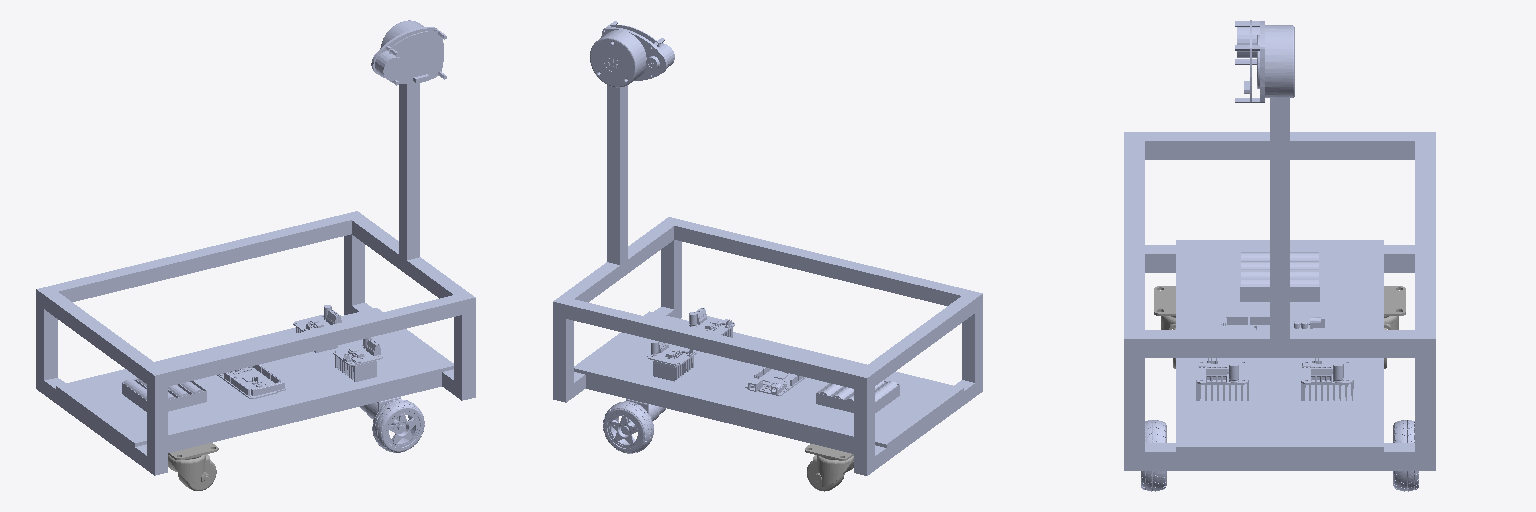
robot.urdf — robot_description:
<?xml version="1.0" encoding="utf-8"?>
<!-- This URDF was automatically created by SolidWorks to URDF Exporter! Originally created by [author] ([email redacted]) 
     Commit Version: 1.6.0-1-g15f4949  Build Version: 1.6.7594.29634
     For more information, please see http://wiki.ros.org/sw_urdf_exporter -->
<robot
  name="robot_description">

<link name="base_footprint"/>
  <joint name="joint_base"
    type="fixed">
    <origin
      xyz="0 0 0.035"
      rpy="0 0 0" />
    <parent
      link="base_footprint" />
    <child
      link="base_link" />
  </joint>

  <link
    name="base_link">
    <inertial>
      <origin
        xyz="0.011251388694839 -0.000218371431547896 0.0399880408960165"
        rpy="0 0 0" />
      <mass
        value="3.10332964553309" />
      <inertia
        ixx="0.0281276630484449"
        ixy="3.5116427776902E-08"
        ixz="-0.00469879010404139"
        iyy="0.0668672613470827"
        iyz="-3.61597758280749E-07"
        izz="0.0746126560387773" />
    </inertial>
    <visual>
      <origin
        xyz="0 0 0"
        rpy="0 0 0" />
      <geometry>
        <mesh
          filename="package://robot_description/meshes/base_link.STL" />
      </geometry>
      <material
        name="">
        <color
          rgba="0.792156862745098 0.819607843137255 0.933333333333333 1" />
      </material>
    </visual>
    <collision>
      <origin
        xyz="0 0 0"
        rpy="0 0 0" />
      <geometry>
        <mesh
          filename="package://robot_description/meshes/base_link.STL" />
      </geometry>
    </collision>
  </link>
  <link
    name="left_wheel_link">
    <inertial>
      <origin
        xyz="-6.43950559542361E-10 0.000697154054652038 -3.84037496248268E-10"
        rpy="0 0 0" />
      <mass
        value="0.0525886389300759" />
      <inertia
        ixx="2.2276561780029E-05"
        ixy="-2.14170927054796E-13"
        ixz="-1.36754384280771E-13"
        iyy="3.95813257450557E-05"
        iyz="-4.75100954008714E-14"
        izz="2.22767408662809E-05" />
    </inertial>
    <visual>
      <origin
        xyz="0 0 0"
        rpy="0 0 0" />
      <geometry>
        <mesh
          filename="package://robot_description/meshes/left_wheel_link.STL" />
      </geometry>
      <material
        name="">
        <color
          rgba="0.792156862745098 0.819607843137255 0.933333333333333 1" />
      </material>
    </visual>
    <collision>
      <origin
        xyz="0 0 0"
        rpy="0 0 0" />
      <geometry>
        <mesh
          filename="package://robot_description/meshes/left_wheel_link.STL" />
      </geometry>
    </collision>
  </link>
  <joint
    name="left_wheel_joint"
    type="continuous">
    <origin
      xyz="0.1385 0.121 -0.054"
      rpy="0 0 0" />
    <parent
      link="base_link" />
    <child
      link="left_wheel_link" />
    <axis
      xyz="0 1 0" />
  </joint>
  <link
    name="right_wheel_link">
    <inertial>
      <origin
        xyz="6.43950559542361E-10 -0.000697154054652052 -3.84037440737117E-10"
        rpy="0 0 0" />
      <mass
        value="0.052588638930076" />
      <inertia
        ixx="2.22765617800291E-05"
        ixy="-2.14170904417189E-13"
        ixz="1.36754355686708E-13"
        iyy="3.95813257450558E-05"
        iyz="4.75101076736735E-14"
        izz="2.22767408662809E-05" />
    </inertial>
    <visual>
      <origin
        xyz="0 0 0"
        rpy="0 0 0" />
      <geometry>
        <mesh
          filename="package://robot_description/meshes/right_wheel_link.STL" />
      </geometry>
      <material
        name="">
        <color
          rgba="0.792156862745098 0.819607843137255 0.933333333333333 1" />
      </material>
    </visual>
    <collision>
      <origin
        xyz="0 0 0"
        rpy="0 0 0" />
      <geometry>
        <mesh
          filename="package://robot_description/meshes/right_wheel_link.STL" />
      </geometry>
    </collision>
  </link>
  <joint
    name="right_wheel_joint"
    type="continuous">
    <origin
      xyz="0.1385 -0.121 -0.054"
      rpy="0 0 0" />
    <parent
      link="base_link" />
    <child
      link="right_wheel_link" />
    <axis
      xyz="0 1 0" />
  </joint>
  <link
    name="left_caster_link">
    <inertial>
      <origin
        xyz="0.00842140438424113 -0.000116137901313776 -0.0269930296093085"
        rpy="0 0 0" />
      <mass
        value="0.0848685945513389" />
      <inertia
        ixx="2.32697424754144E-05"
        ixy="-1.44036304353653E-09"
        ixz="9.6149940655632E-07"
        iyy="2.44981679825654E-05"
        iyz="1.79135201929634E-09"
        izz="2.58335825567553E-05" />
    </inertial>
    <visual>
      <origin
        xyz="0 0 0"
        rpy="0 0 0" />
      <geometry>
        <mesh
          filename="package://robot_description/meshes/left_caster_link.STL" />
      </geometry>
      <material
        name="">
        <color
          rgba="0.698039215686274 0.698039215686274 0.698039215686274 1" />
      </material>
    </visual>
    <collision>
      <origin
        xyz="0 0 0"
        rpy="0 0 0" />
      <geometry>
        <mesh
          filename="package://robot_description/meshes/left_caster_link.STL" />
      </geometry>
    </collision>
  </link>
  <joint
    name="left_caster_joint"
    type="fixed">
    <origin
      xyz="-0.1535 0.09 -0.025"
      rpy="0 0 0" />
    <parent
      link="base_link" />
    <child
      link="left_caster_link" />
    <axis
      xyz="0 0 0" />
  </joint>
  <link
    name="right_caster_link">
    <inertial>
      <origin
        xyz="0.00842140438424113 -0.000116137901313693 -0.0269930296093086"
        rpy="0 0 0" />
      <mass
        value="0.0848685945513389" />
      <inertia
        ixx="2.32697424754136E-05"
        ixy="-1.44036304353131E-09"
        ixz="9.61499406556324E-07"
        iyy="2.44981679825639E-05"
        iyz="1.79135201927591E-09"
        izz="2.58335825567545E-05" />
    </inertial>
    <visual>
      <origin
        xyz="0 0 0"
        rpy="0 0 0" />
      <geometry>
        <mesh
          filename="package://robot_description/meshes/right_caster_link.STL" />
      </geometry>
      <material
        name="">
        <color
          rgba="0.698039215686274 0.698039215686274 0.698039215686274 1" />
      </material>
    </visual>
    <collision>
      <origin
        xyz="0 0 0"
        rpy="0 0 0" />
      <geometry>
        <mesh
          filename="package://robot_description/meshes/right_caster_link.STL" />
      </geometry>
    </collision>
  </link>
  <joint
    name="right_caster_joint"
    type="fixed">
    <origin
      xyz="-0.1535 -0.09 -0.025"
      rpy="0 0 0" />
    <parent
      link="base_link" />
    <child
      link="right_caster_link" />
    <axis
      xyz="0 0 0" />
  </joint>
  <link
    name="lidar_link">
    <inertial>
      <origin
        xyz="-0.00676653011666356 -0.00838187226715975 -9.19261110875395E-05"
        rpy="0 0 0" />
      <mass
        value="0.33076913637071" />
      <inertia
        ixx="0.000614917940454091"
        ixy="-0.00015824302591117"
        ixz="8.01984318975235E-07"
        iyy="0.00109815200027136"
        iyz="-3.09162986587573E-06"
        izz="0.000960697335617223" />
    </inertial>
    <visual>
      <origin
        xyz="0 0 0"
        rpy="0 0 0" />
      <geometry>
        <mesh
          filename="package://robot_description/meshes/lidar_link.STL" />
      </geometry>
      <material
        name="">
        <color
          rgba="0.792156862745098 0.819607843137255 0.933333333333333 1" />
      </material>
    </visual>
    <collision>
      <origin
        xyz="0 0 0"
        rpy="0 0 0" />
      <geometry>
        <mesh
          filename="package://robot_description/meshes/lidar_link.STL" />
      </geometry>
    </collision>
  </link>
  <joint
    name="lidar_joint"
    type="fixed">
    <origin
      xyz="0.22425 0 0.40365"
      rpy="0.0 0 0" />
    <parent
      link="base_link" />
    <child
      link="lidar_link" />
    <axis
      xyz="0 0 0" />
  </joint>


 <gazebo reference="left_wheel_link">
    <mu1>1.0</mu1>
    <mu2>1.0</mu2>
    <kp>500000.0</kp>
    <kd>100.0</kd>
    <minDepth>0.001</minDepth>
    <maxVel>2</maxVel>
    <fdir1>0 0 1</fdir1>
    <material>Gazebo/FlatBlack</material>
  </gazebo>

 <gazebo reference="right_wheel_link">
    <mu1>1.0</mu1>
    <mu2>1.0</mu2>
    <kp>500000.0</kp>
    <kd>100.0</kd>
    <minDepth>0.001</minDepth>
    <maxVel>2</maxVel>
    <fdir1>0 0 1</fdir1>
    <material>Gazebo/FlatBlack</material>
  </gazebo>


 <gazebo reference="left_caster_link">
    <mu1>0.1</mu1>
    <mu2>0.1</mu2>
    <kp>500.0</kp>
    <kd>10.0</kd>
    <minDepth>0.001</minDepth>
    <maxVel>2</maxVel>
    <fdir1>0 0 1</fdir1>
    <material>Gazebo/FlatBlack</material>
  </gazebo>

 <gazebo reference="right_caster_link">
    <mu1>0.1</mu1>
    <mu2>0.1</mu2>
    <kp>500.0</kp>
    <kd>10.0</kd>
    <minDepth>0.001</minDepth>
    <maxVel>2</maxVel>
    <fdir1>0 0 1</fdir1>
    <material>Gazebo/FlatBlack</material>
  </gazebo>

<gazebo>
	  <plugin name="differential_drive_controller"
		filename="libgazebo_ros_diff_drive.so">
    <leftJoint>left_wheel_joint</leftJoint>
	  <rightJoint>right_wheel_joint</rightJoint>
  	<robotBaseFrame>base_footprint</robotBaseFrame>
  	<wheelSeparation>0.15</wheelSeparation>
  	<wheelDiameter>0.07</wheelDiameter>
	  <commandTopic>cmd_vel</commandTopic>
    <odometryTopic>odom</odometryTopic>
  	<odometryFrame>odom</odometryFrame>
    <odometrySource>world</odometrySource>
    <publishOdomTF>true</publishOdomTF>
  	<publishWheelTF>false</publishWheelTF>

      <publishTf>true</publishTf>
      	<publishWheelJointState>true</publishWheelJointState>
      	<legacyMode>false</legacyMode>
      	<updateRate>100.0</updateRate>
	<wheelAcceleration>6</wheelAcceleration>
      	<wheelTorque>20</wheelTorque>
     	<rosDebugLevel>na</rosDebugLevel>
	    </plugin>
</gazebo>
<!-- -->

 <gazebo reference="lidar_link">
    <material>Gazebo/FlatBlack</material>
    <sensor type="gpu_ray" name="lidar_link_sensor">
      <pose>0 0 0 0 0 0</pose>
      <visualize>false</visualize>
      <update_rate>5</update_rate>
      <ray>
        <scan>
          <horizontal>
            <samples>720</samples>
            <resolution>1</resolution>
            <min_angle>0.0</min_angle>
            <max_angle>6.28319</max_angle>
          </horizontal>
        </scan>
        <range>
          <min>0.50</min>
          <max>8.5</max>
          <resolution>0.015</resolution>
        </range>
        <noise>
          <type>gaussian</type>
          <mean>0.0</mean>
          <stddev>0.01</stddev>
        </noise>
      </ray>
      <plugin name="gazebo_ros_lds_lfcd_controller" filename="libgazebo_ros_gpu_laser.so">
        <topicName>/scan</topicName>
        <frameName>lidar_link</frameName>
      </plugin>
    </sensor>
  </gazebo>

</robot>

--- What the picture shows (computed from the rendered views, not written in the file) ---
Views: 3 orthographic renders of the robot side by side, from view 1: azimuth 30°, elevation 25°; view 2: azimuth 150°, elevation 25°; view 3: azimuth 270°, elevation 25°.
Robot: robot_description — 7 links, 6 joints (2 continuous, 4 fixed); root link base_footprint; default pose: all joints at 0.
Visible links, largest first — view 1: base_link, lidar_link, right_wheel_link, right_caster_link; view 2: base_link, lidar_link, left_wheel_link, left_caster_link; view 3: base_link, lidar_link, left_wheel_link, right_wheel_link, left_caster_link, right_caster_link.
Link boxes in pixels (x1=…): base_link: x1=36, y1=83, x2=475, y2=475; lidar_link: x1=371, y1=20, x2=446, y2=85; right_wheel_link: x1=372, y1=399, x2=424, y2=452; right_caster_link: x1=168, y1=443, x2=218, y2=490; base_link: x1=553, y1=85, x2=982, y2=475; lidar_link: x1=590, y1=21, x2=674, y2=87; left_wheel_link: x1=603, y1=401, x2=653, y2=453; left_caster_link: x1=805, y1=444, x2=853, y2=491; base_link: x1=1124, y1=98, x2=1435, y2=470; lidar_link: x1=1235, y1=20, x2=1294, y2=102; left_wheel_link: x1=1393, y1=420, x2=1418, y2=491; right_wheel_link: x1=1141, y1=420, x2=1166, y2=491; left_caster_link: x1=1384, y1=286, x2=1405, y2=368; right_caster_link: x1=1154, y1=286, x2=1175, y2=368.
Bounding box of the posed robot: 0.4942 × 0.3 × 0.528 m (x, y, z).
Meshes: 6 distinct files referenced, 6 mesh visuals loaded (6 binary STL).